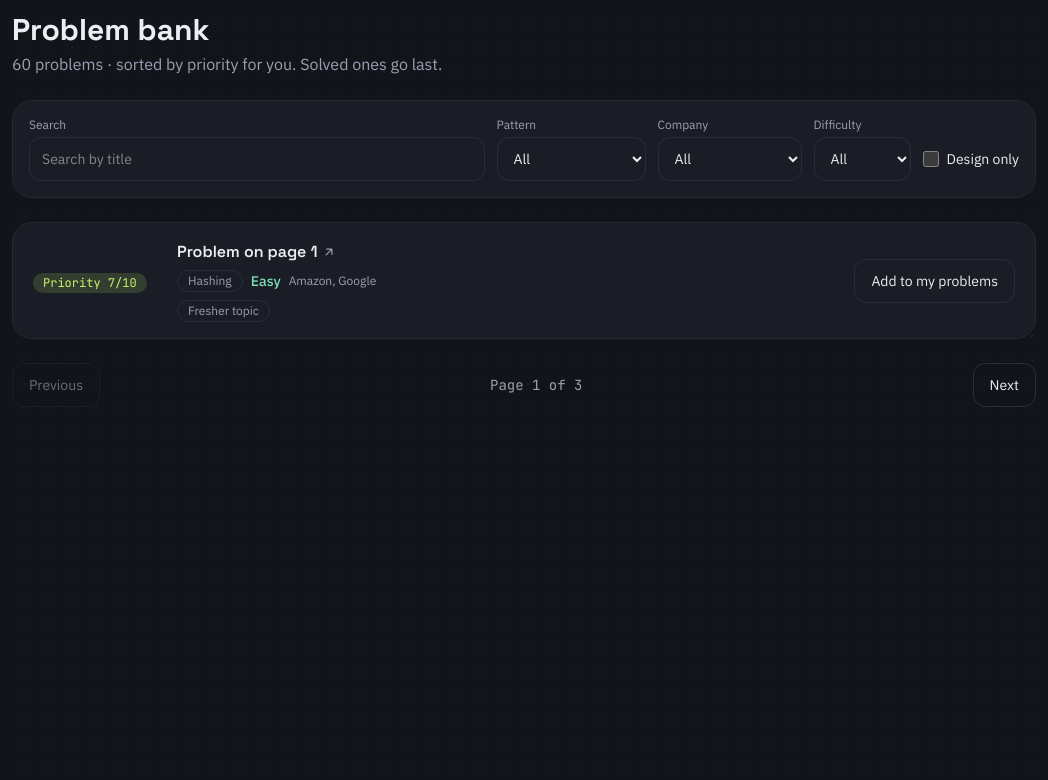
Test: Problem bank page › pages through results
Expected: the text "Page 1 of 3" is shown, [490,375,582,395]
Expected: the button "Previous" is disabled, [12,363,100,407]
Step 1. Click the button "Next" → [1004, 385], box [973,363,1036,407]
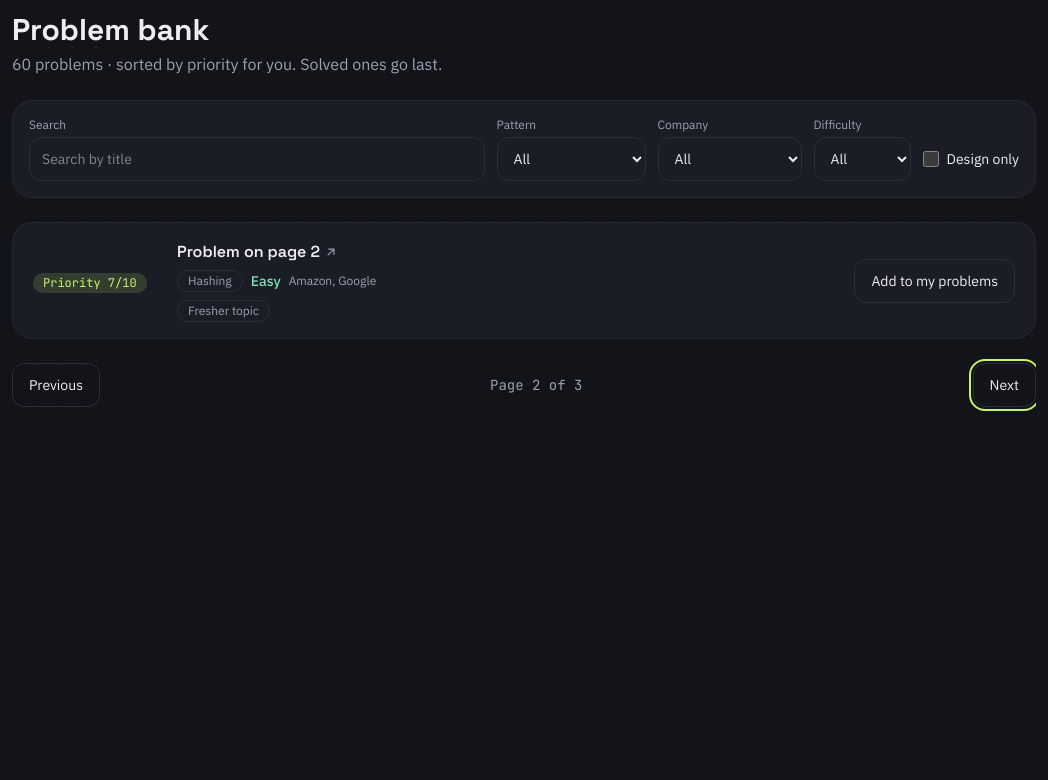
Expected: the link "Problem on page 2" is shown, [177,240,338,264]
